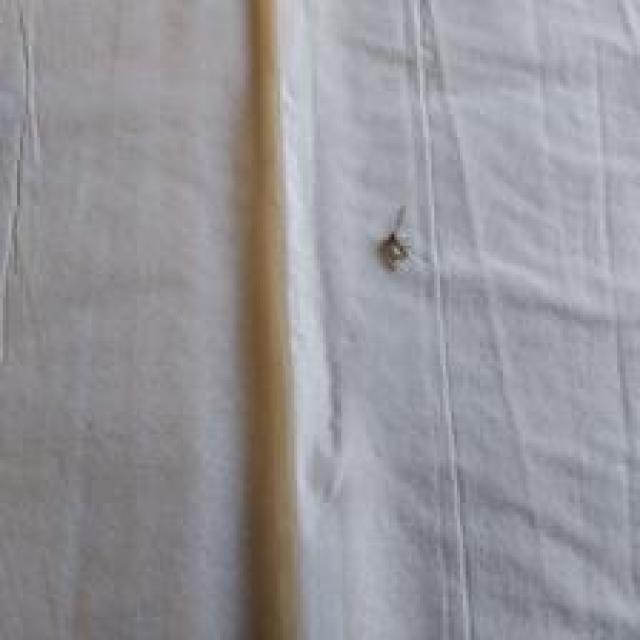Culex: (378, 204, 413, 273)
